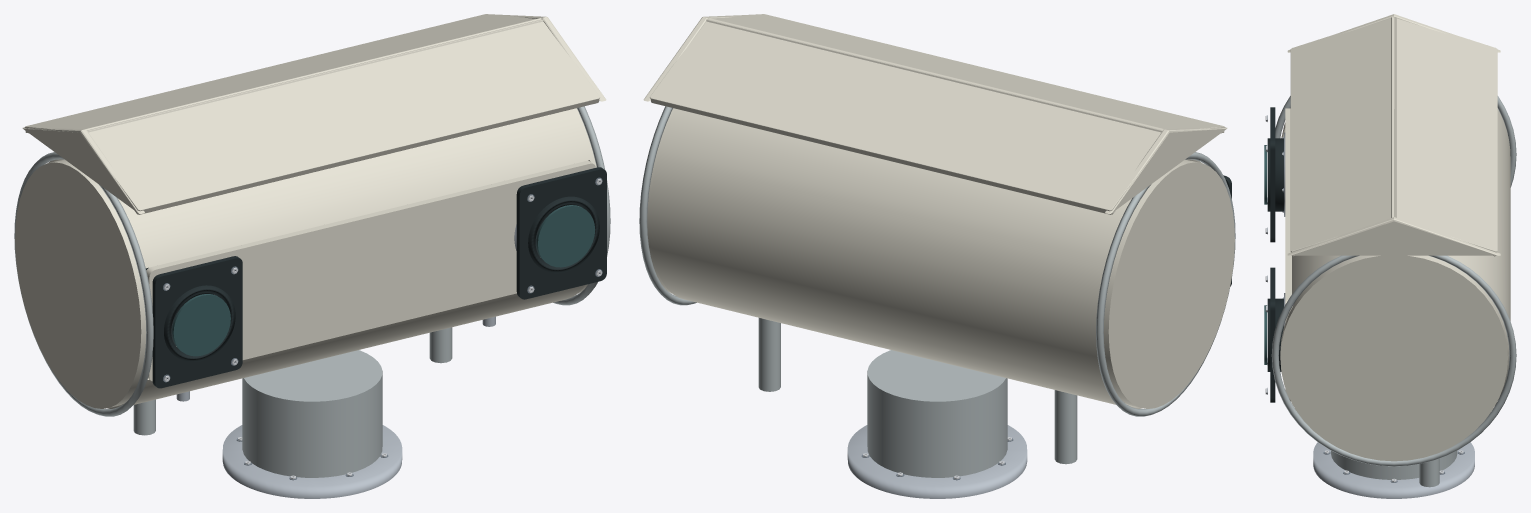
The model's file is phoenix-ssi.glb.
The picture shows the model from 3 angles, left to right: view 1: azimuth 30°, elevation 25°; view 2: azimuth 150°, elevation 25°; view 3: azimuth 270°, elevation 25°; orthographic projection. The views are drawn at different scales.
Parts seen in each view (by area): view 1: SSI_HEAD_HOUSING_Phoenix_ivory_thermal_coating (×2), SSI_THERMAL_COVER_Phoenix_ivory_thermal_coating, SSI_GIMBAL_Phoenix_machined_aluminium, SSI_OPTICAL_SURROUND_1_Phoenix_black_anodized_aluminium (×2), SSI_OPTICAL_SURROUND_-1_Phoenix_black_anodized_aluminium (×2), BORED_FLANGE_1_Machined_aluminium, SSI_HEAD_HOUSING_Phoenix_machined_aluminium, SSI_OPTICAL_SURROUND_1_Phoenix_optical_objective, SSI_OPTICAL_SURROUND_-1_Phoenix_optical_objective; view 2: SSI_HEAD_HOUSING_Phoenix_ivory_thermal_coating (×2), SSI_THERMAL_COVER_Phoenix_ivory_thermal_coating, SSI_GIMBAL_Phoenix_machined_aluminium, BORED_FLANGE_1_Machined_aluminium, SSI_HEAD_HOUSING_Phoenix_machined_aluminium; view 3: SSI_THERMAL_COVER_Phoenix_ivory_thermal_coating, SSI_HEAD_HOUSING_Phoenix_ivory_thermal_coating (×2), SSI_HEAD_HOUSING_Phoenix_machined_aluminium, BORED_FLANGE_1_Machined_aluminium, SSI_GIMBAL_Phoenix_machined_aluminium, SSI_OPTICAL_SURROUND_-1_Phoenix_black_anodized_aluminium (×2), SSI_OPTICAL_SURROUND_1_Phoenix_black_anodized_aluminium (×2).
Part boxes in pixels (left/top/right/bottom): SSI_HEAD_HOUSING_Phoenix_ivory_thermal_coating (×2): left=15, top=108, right=596, bottom=408; SSI_THERMAL_COVER_Phoenix_ivory_thermal_coating: left=22, top=14, right=606, bottom=214; SSI_GIMBAL_Phoenix_machined_aluminium: left=133, top=327, right=452, bottom=477; SSI_OPTICAL_SURROUND_1_Phoenix_black_anodized_aluminium (×2): left=516, top=167, right=606, bottom=299; SSI_OPTICAL_SURROUND_-1_Phoenix_black_anodized_aluminium (×2): left=152, top=256, right=242, bottom=388; BORED_FLANGE_1_Machined_aluminium: left=222, top=425, right=402, bottom=498; SSI_HEAD_HOUSING_Phoenix_machined_aluminium: left=14, top=106, right=610, bottom=416; SSI_OPTICAL_SURROUND_1_Phoenix_optical_objective: left=536, top=205, right=595, bottom=267; SSI_OPTICAL_SURROUND_-1_Phoenix_optical_objective: left=172, top=294, right=230, bottom=356; SSI_HEAD_HOUSING_Phoenix_ivory_thermal_coating (×2): left=647, top=108, right=1234, bottom=408; SSI_THERMAL_COVER_Phoenix_ivory_thermal_coating: left=643, top=14, right=1227, bottom=214; SSI_GIMBAL_Phoenix_machined_aluminium: left=758, top=318, right=1077, bottom=477; BORED_FLANGE_1_Machined_aluminium: left=847, top=425, right=1027, bottom=498; SSI_HEAD_HOUSING_Phoenix_machined_aluminium: left=639, top=106, right=1235, bottom=416; SSI_THERMAL_COVER_Phoenix_ivory_thermal_coating: left=1287, top=14, right=1500, bottom=256; SSI_HEAD_HOUSING_Phoenix_ivory_thermal_coating (×2): left=1280, top=108, right=1510, bottom=461; SSI_HEAD_HOUSING_Phoenix_machined_aluminium: left=1271, top=96, right=1516, bottom=466; BORED_FLANGE_1_Machined_aluminium: left=1313, top=442, right=1474, bottom=498; SSI_GIMBAL_Phoenix_machined_aluminium: left=1331, top=450, right=1457, bottom=487; SSI_OPTICAL_SURROUND_-1_Phoenix_black_anodized_aluminium (×2): left=1267, top=107, right=1283, bottom=242; SSI_OPTICAL_SURROUND_1_Phoenix_black_anodized_aluminium (×2): left=1267, top=267, right=1283, bottom=402.
Size of the model in its own units: 0.1936 by 0.1524 by 0.0997.
